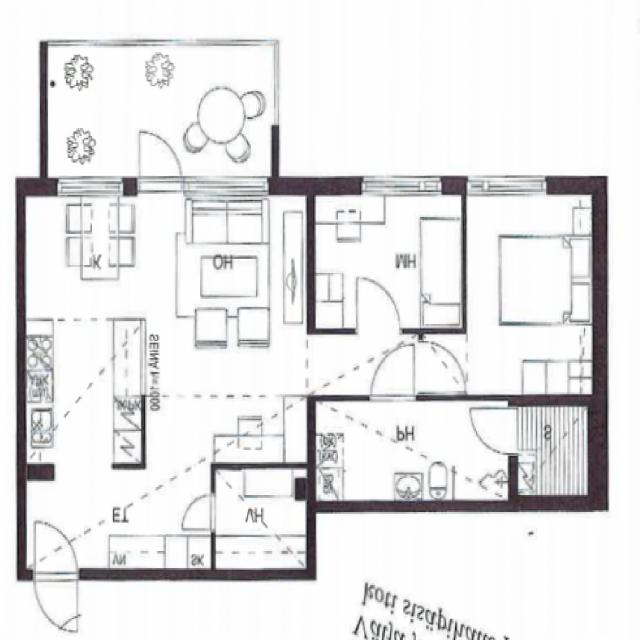door: (140, 127, 181, 194), (35, 519, 77, 580), (35, 570, 77, 631), (419, 342, 467, 393), (372, 344, 414, 401), (471, 408, 517, 454), (182, 496, 215, 530)
